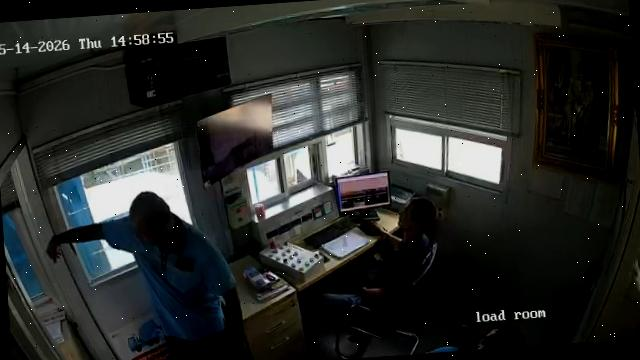Head: (126, 189, 178, 250), (388, 194, 436, 238), (472, 321, 528, 350)
People: (46, 192, 243, 359), (319, 198, 436, 314), (428, 325, 524, 352)
